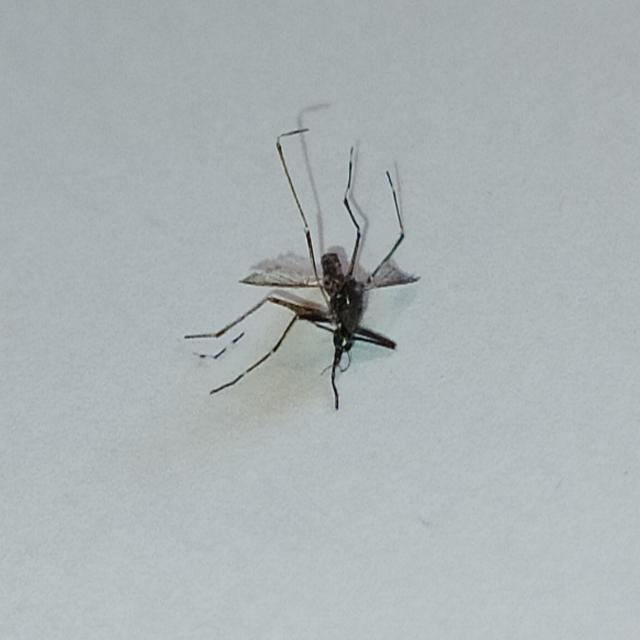albopictus: (180, 108, 422, 418)
